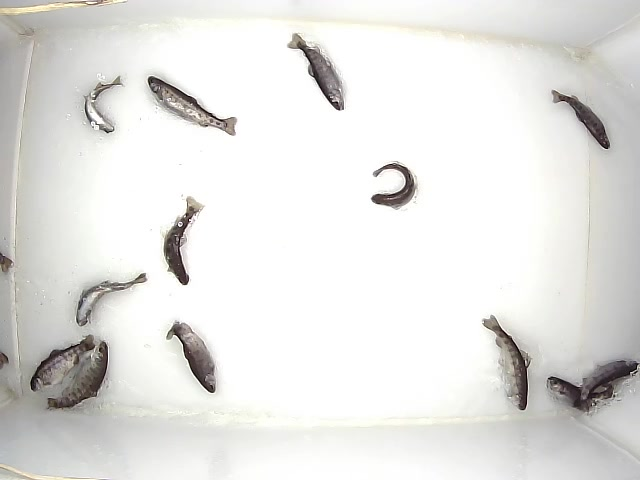fish: (148, 76, 237, 136), (482, 315, 533, 409), (287, 33, 344, 111), (47, 340, 108, 409), (30, 334, 99, 392), (76, 273, 148, 327), (166, 320, 216, 393), (164, 196, 205, 285), (551, 90, 610, 149), (579, 360, 640, 416), (546, 376, 614, 412), (83, 76, 123, 133), (371, 163, 416, 210)
